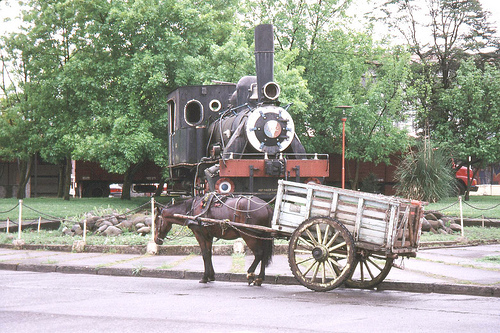horse: (150, 193, 275, 290)
